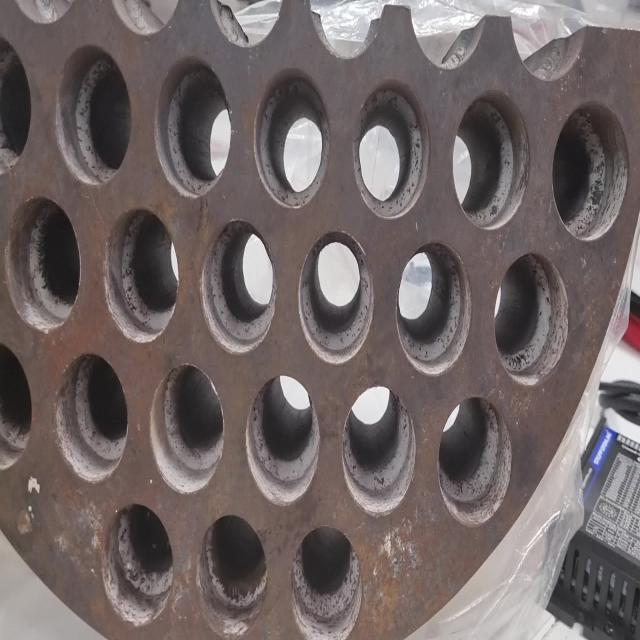Hole: (154, 55, 232, 199), (53, 44, 131, 186), (552, 101, 629, 242), (452, 90, 529, 230), (353, 80, 430, 220), (3, 195, 81, 333), (254, 68, 330, 209), (102, 206, 179, 344), (297, 229, 374, 364), (200, 218, 276, 354), (396, 240, 472, 376), (494, 252, 569, 386), (342, 384, 416, 518), (438, 394, 512, 528), (54, 351, 128, 484), (246, 374, 320, 506), (150, 362, 224, 494), (196, 513, 268, 638), (102, 502, 174, 626), (291, 523, 363, 639), (0, 36, 33, 178), (0, 340, 32, 473)
